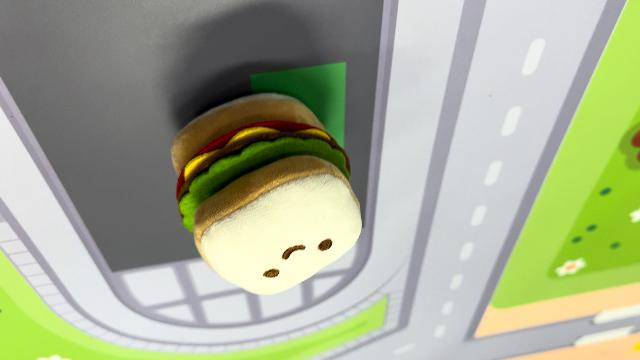sandwich: (168, 90, 366, 296)
